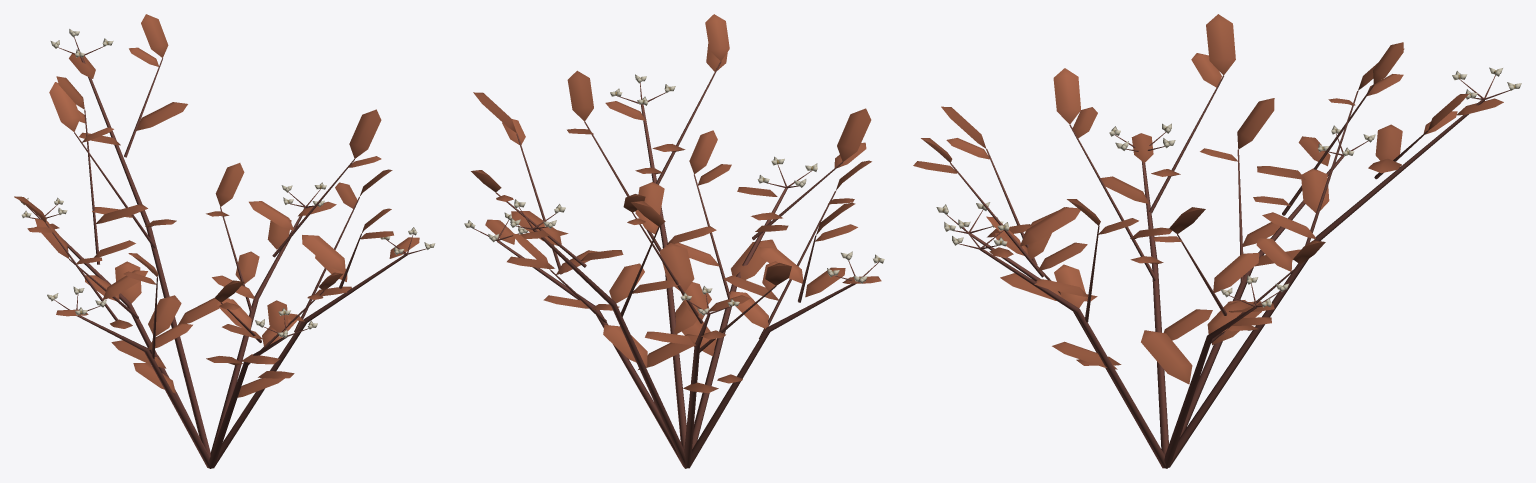
File: red_dogwood.glb
The picture shows the model from 3 angles, left to right: view 1: azimuth 30°, elevation 25°; view 2: azimuth 150°, elevation 25°; view 3: azimuth 270°, elevation 25°; orthographic projection. The views are drawn at different scales.
Parts seen in each view (by area): view 1: red_dogwood; view 2: red_dogwood; view 3: red_dogwood.
Boxes of the visible parts, x1,y1,x2,y2 form: red_dogwood: (14, 14, 435, 468); red_dogwood: (464, 14, 884, 468); red_dogwood: (913, 14, 1521, 468).
Size of the model in its own units: 1.74 by 1.62 by 2.19.
